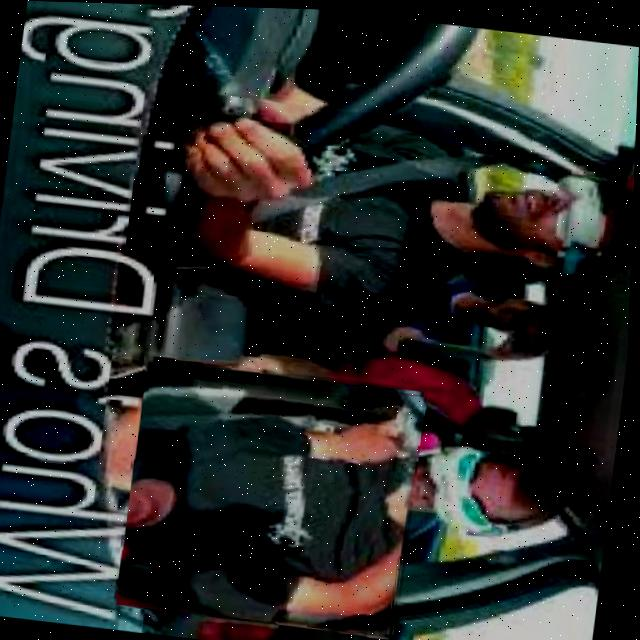no-seatbelt: (120, 353, 431, 635)
seatbelt: (173, 91, 534, 324)
